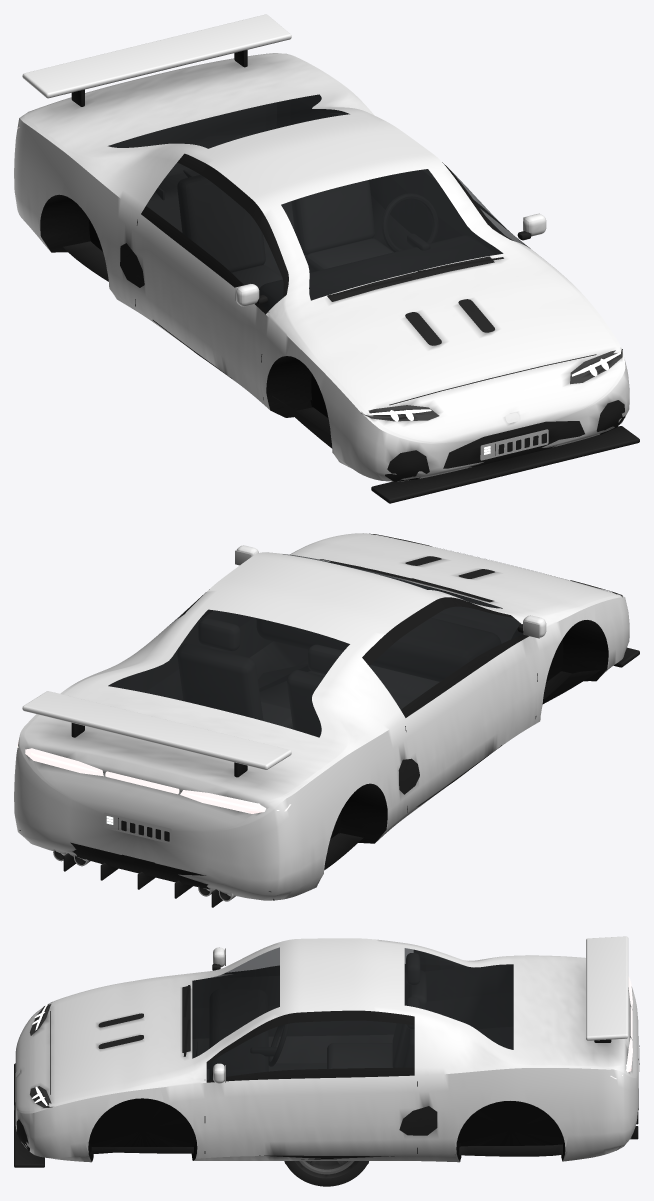
Rendered from sport.glb.
The picture shows the model from 3 angles, top to bottom: view 1: azimuth 30°, elevation 25°; view 2: azimuth 150°, elevation 25°; view 3: azimuth 270°, elevation 25°; orthographic projection. The views are drawn at different scales.
Parts seen in each view (by area): view 1: body; view 2: body; view 3: body, wheel.
Boxes of the visible parts, left/top/right/bottom form: body: left=14, top=14, right=639, bottom=503; body: left=14, top=532, right=639, bottom=907; body: left=14, top=936, right=639, bottom=1167; wheel: left=284, top=1161, right=368, bottom=1186.
Bounding box in the file's own units: 2.08 × 1.65 × 4.42.
